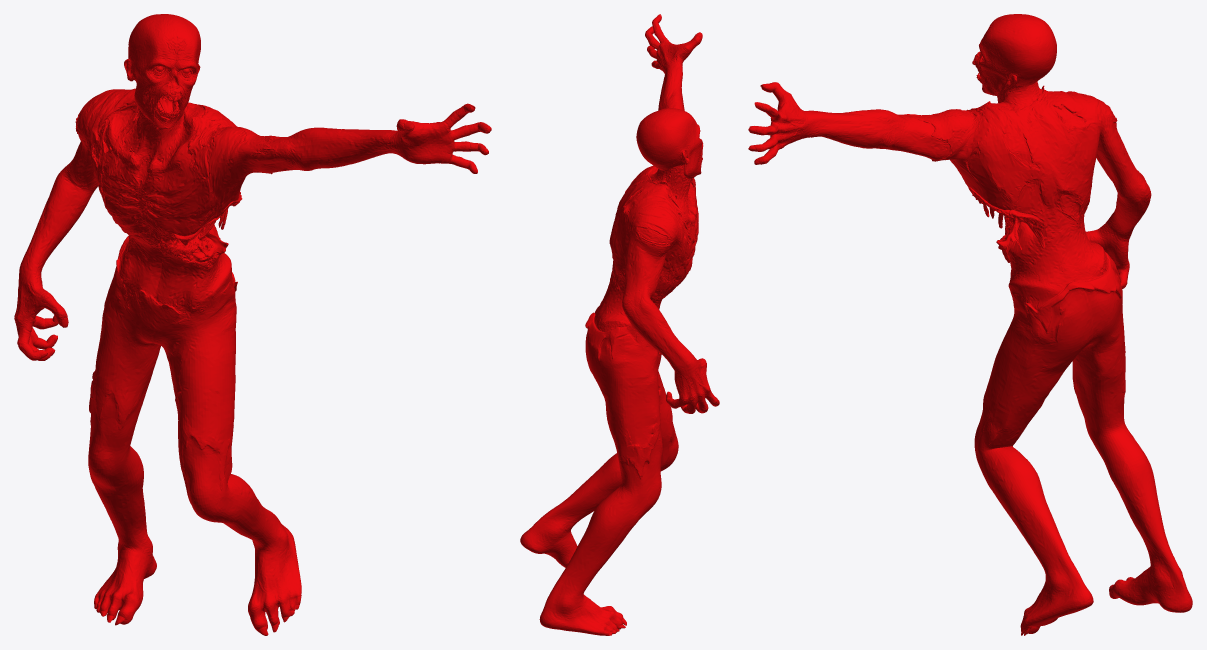
Rendered from zombieIncorrecto.glb.
3 views of the same model, side by side, from view 1: azimuth 30°, elevation 25°; view 2: azimuth 150°, elevation 25°; view 3: azimuth 270°, elevation 25° (orthographic). The views are drawn at different scales.
Parts seen in each view (by area): view 1: ZombieIncorrecto; view 2: ZombieIncorrecto; view 3: ZombieIncorrecto.
Boxes of the visible parts, x1=… form: ZombieIncorrecto: x1=14, y1=14, x2=491, y2=635; ZombieIncorrecto: x1=520, y1=14, x2=719, y2=635; ZombieIncorrecto: x1=748, y1=14, x2=1192, y2=635.
Bounding box in the file's own units: 15.37 × 33.73 × 23.61.
